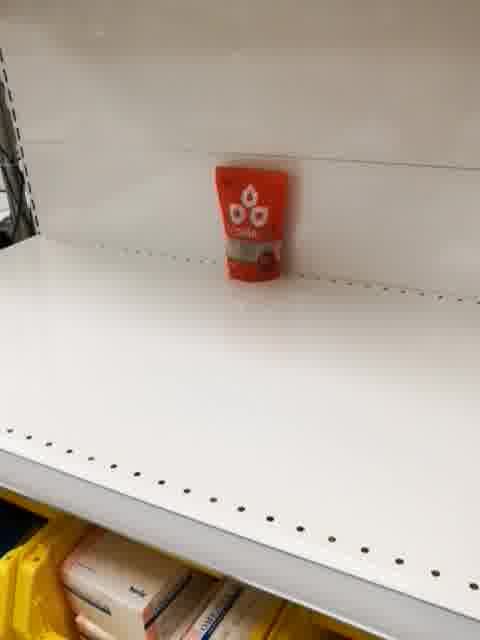whitechia: (213, 163, 299, 285)
